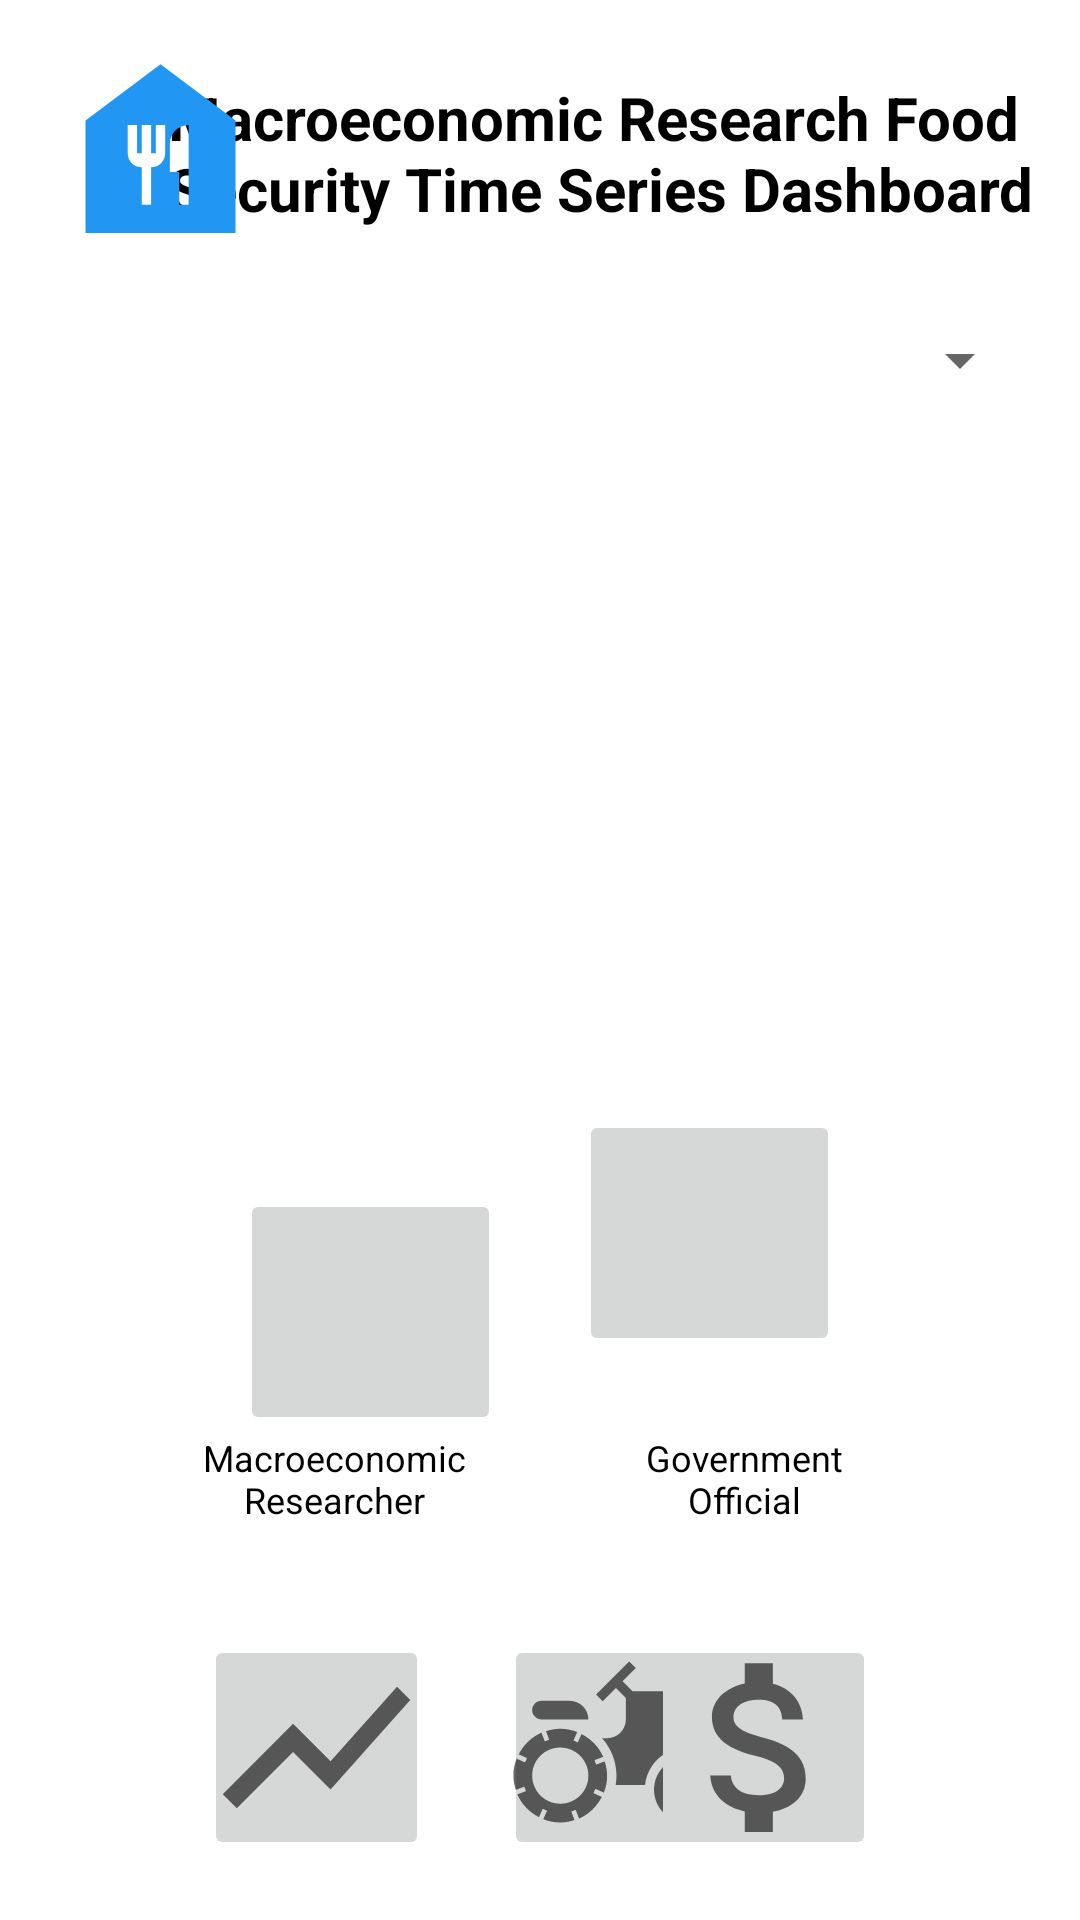

Icon bounding boxes for this 1080 x 1920 phone screenshot, format (x1, y1, x2, y2):
attach money unselect: (651, 1653, 864, 1842)
show chart unselect: (216, 1653, 417, 1842)
